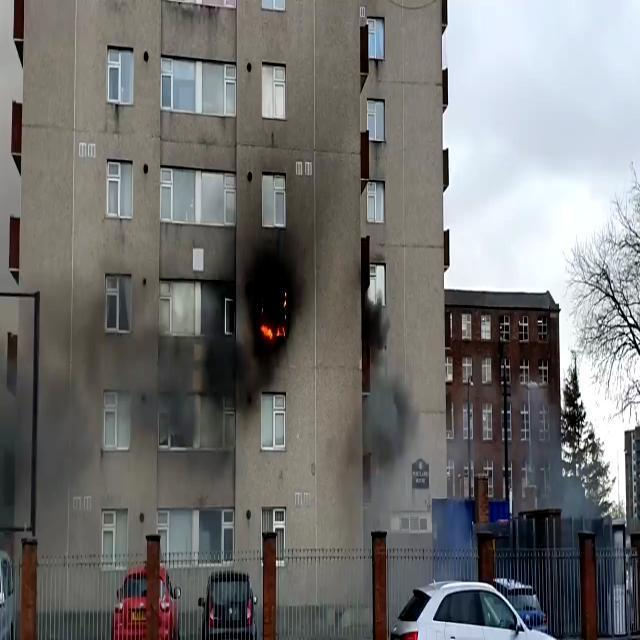Fire: (260, 322, 286, 348)
Smoke: (0, 298, 230, 540), (194, 206, 313, 418)
